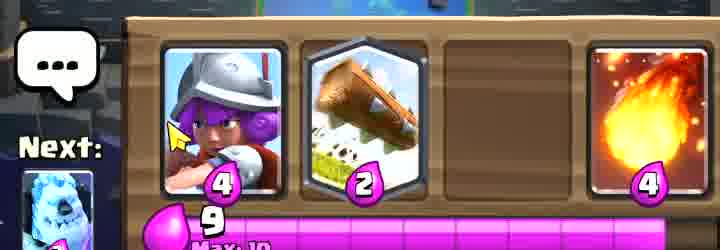fireball: (596, 47, 710, 193)
ice-golem: (25, 172, 93, 249)
log: (310, 43, 423, 192)
musketeer: (166, 47, 282, 200)
